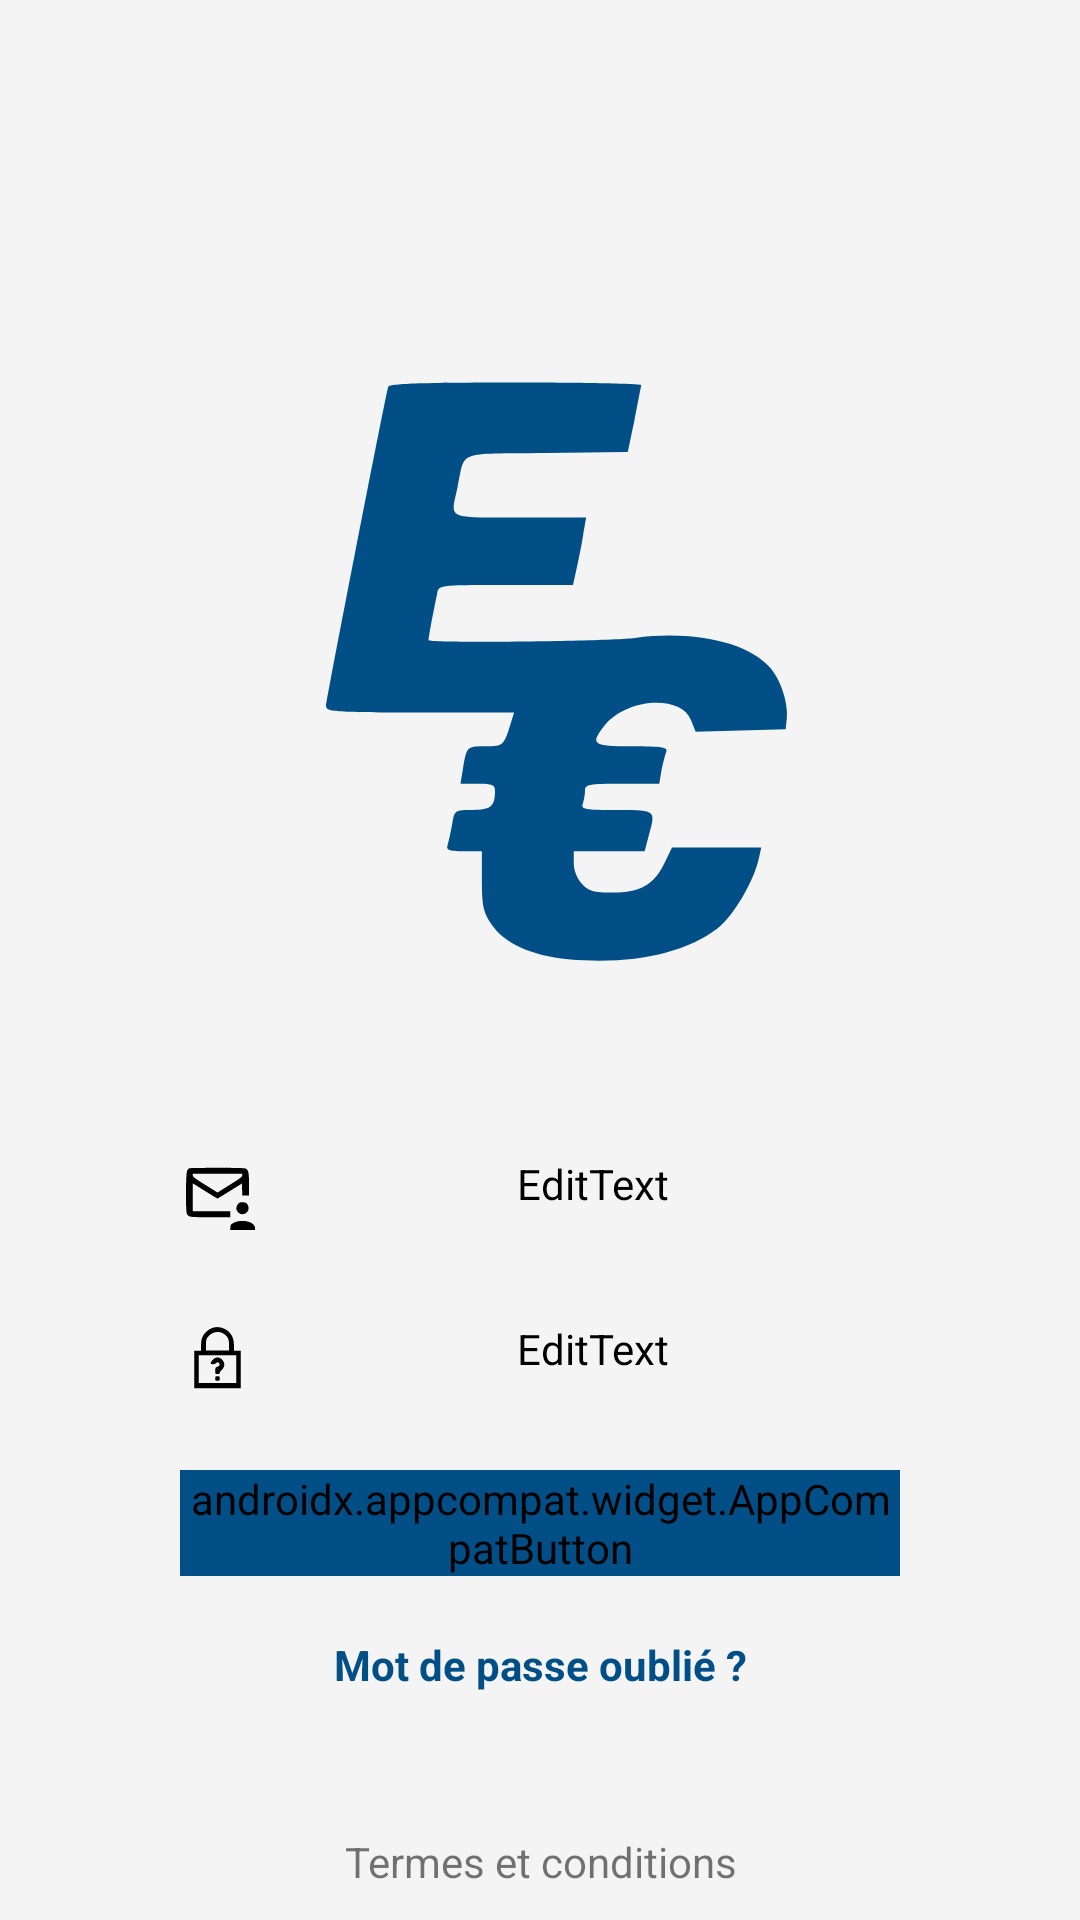

Icons on this 1080×1920 Android screen, each with the point to tap as (x,y):
password: (217,1358)
